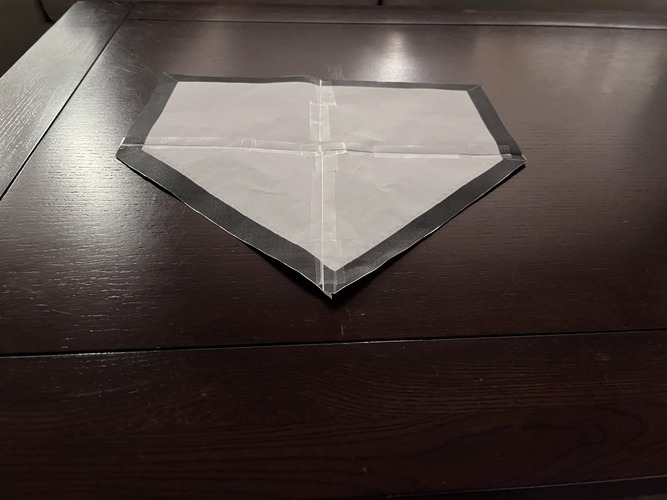homeplate: (114, 72, 525, 296)
